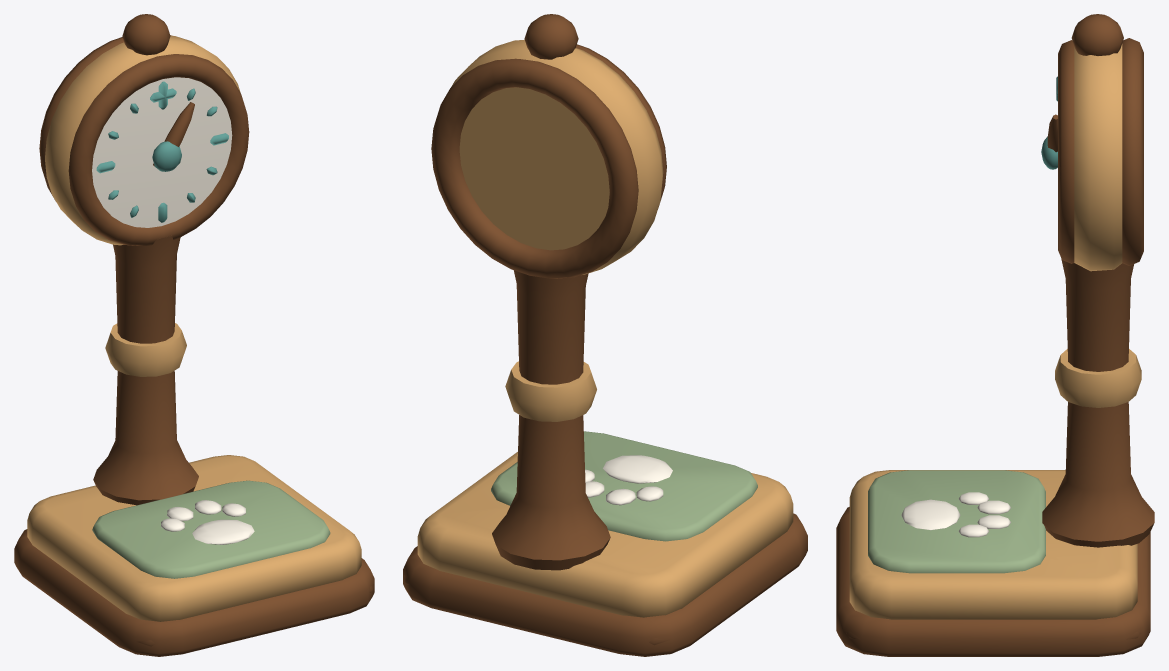
File: ShopScale.fbx
The picture shows the model from 3 angles, left to right: view 1: azimuth 30°, elevation 25°; view 2: azimuth 150°, elevation 25°; view 3: azimuth 270°, elevation 25°; orthographic projection. The views are drawn at different scales.
Visible parts, largest first — view 1: ShopScale; view 2: ShopScale; view 3: ShopScale.
Boxes of the visible parts, box(x1,y1,x2,y2) form: ShopScale: box(14, 14, 374, 656); ShopScale: box(403, 14, 807, 656); ShopScale: box(836, 14, 1154, 656).
Size of the model in its own units: 0.6 by 1.21 by 0.6072.
